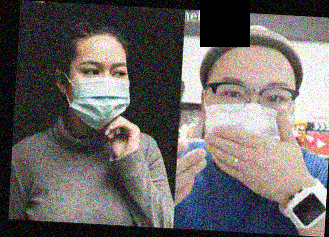with_mask: (203, 77, 297, 152), (68, 60, 131, 133)
